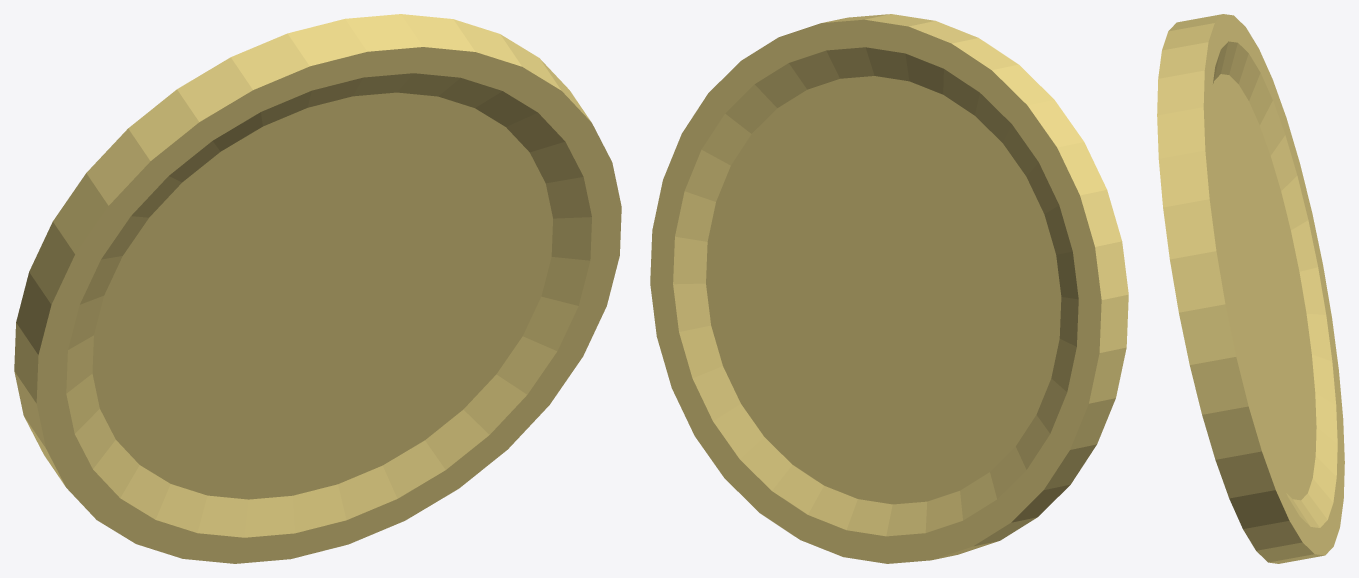
The model's file is Coin Spin.fbx.
3 renders of one model, left to right at view 1: azimuth 30°, elevation 25°; view 2: azimuth 150°, elevation 25°; view 3: azimuth 270°, elevation 25°, orthographic. The views are drawn at different scales.
Parts seen in each view (by area): view 1: Coin; view 2: Coin; view 3: Coin.
Part boxes in pixels (x1=…): Coin: x1=14, y1=14, x2=621, y2=563; Coin: x1=650, y1=14, x2=1128, y2=563; Coin: x1=1157, y1=14, x2=1344, y2=563.
Bounding box in the file's own units: 0.2008 × 0.1984 × 0.0681.
